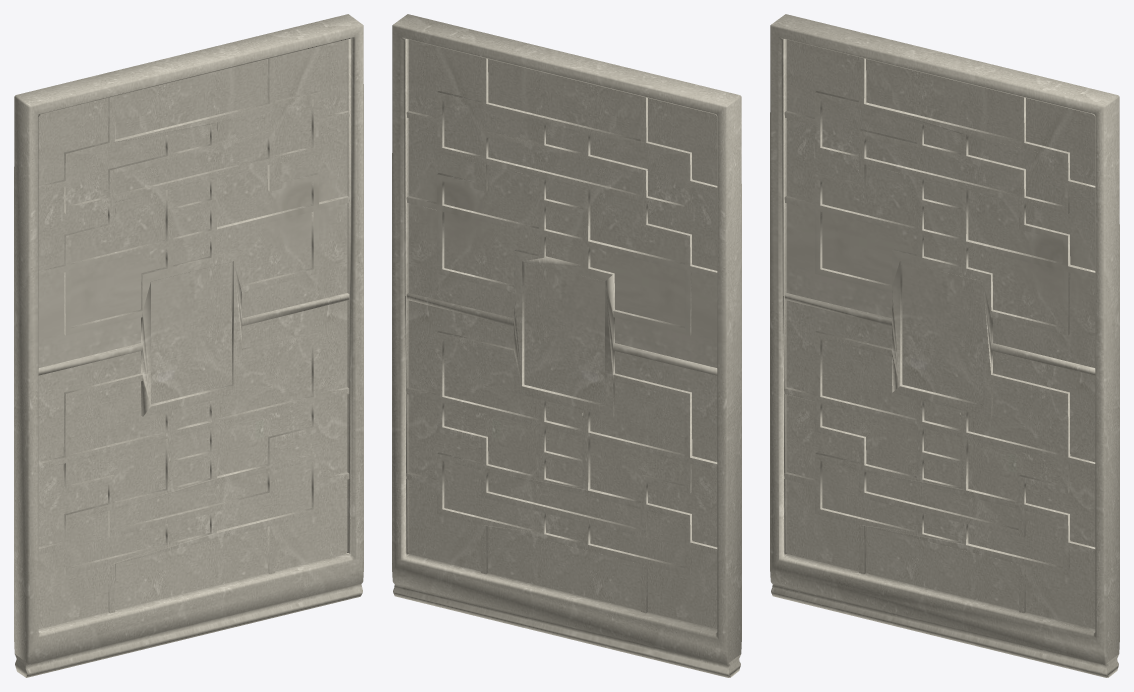
The picture shows the model from 3 angles, left to right: view 1: azimuth 30°, elevation 25°; view 2: azimuth 150°, elevation 25°; view 3: azimuth 330°, elevation 25°; orthographic projection.
Parts seen in each view (by area): view 1: AlabasterDecorWall; view 2: AlabasterDecorWall; view 3: AlabasterDecorWall.
Boxes of the visible parts, bbox=[...] form: AlabasterDecorWall: bbox=[14, 14, 363, 677]; AlabasterDecorWall: bbox=[392, 14, 741, 677]; AlabasterDecorWall: bbox=[770, 14, 1119, 677].
Size of what is drawn, in the model's own units: 1.79 by 2.92 by 0.1477.
1 material, 1 textured.
